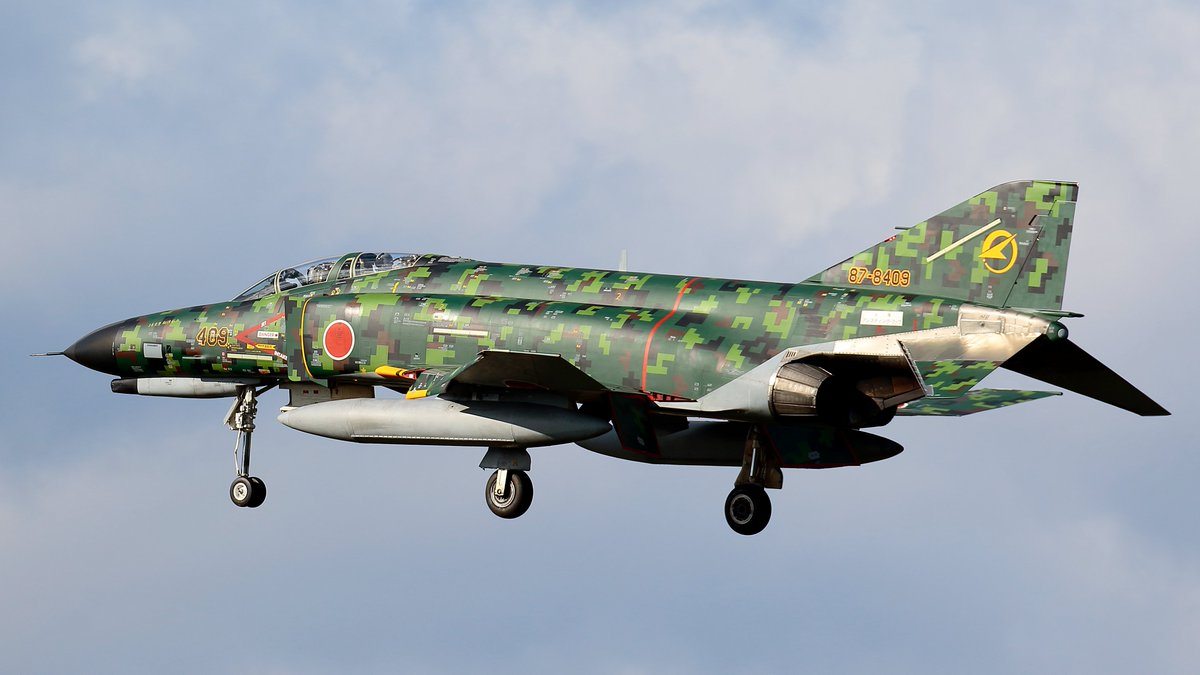F4: (29, 178, 1172, 536)
